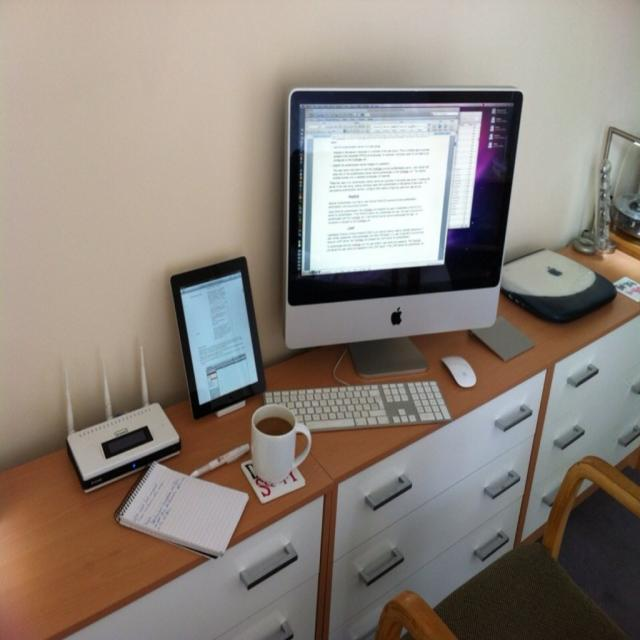others: (22, 60, 639, 640)
